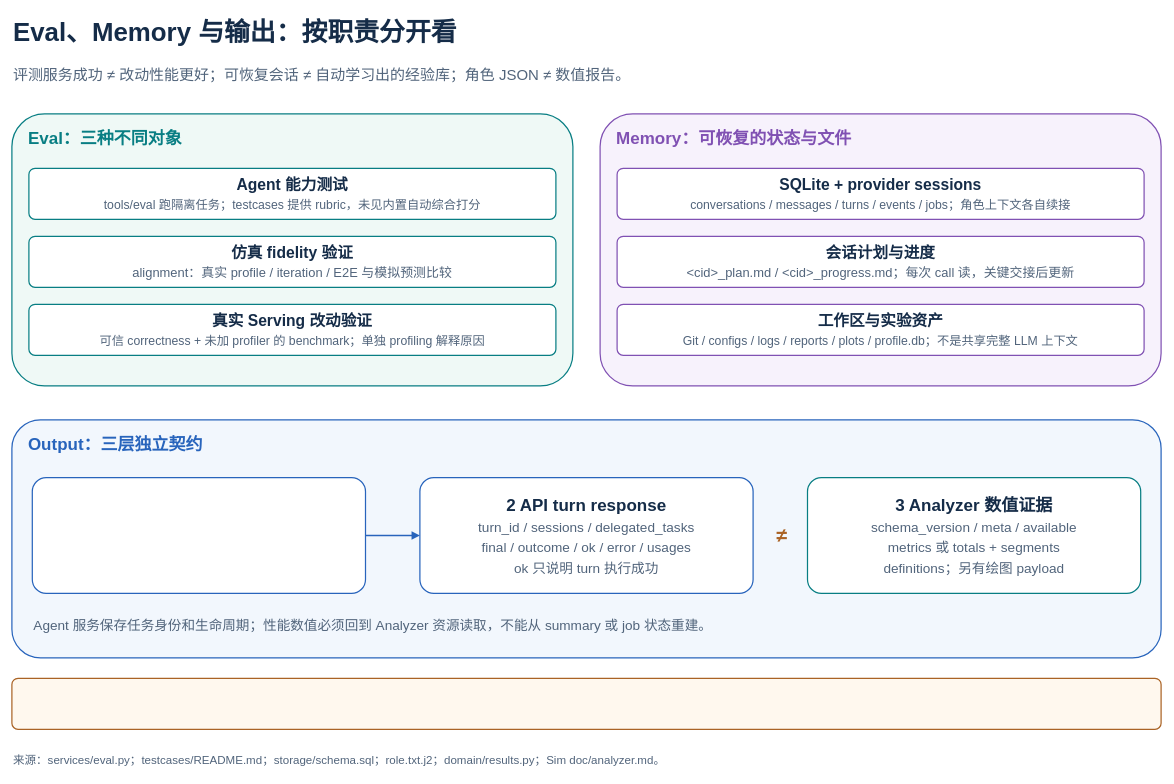
Some shapes in this 1174 by 784 pixel diagram are drawn without their labels. Each missing label, with the centre of its shape:
"1 Role envelope action + message [+ task] 控制委派 / 回交 / 结束 message 内部仍是自由文本" goes at pixel 198 535.
"公开实现边界 eval 实际保留独立 workspace；未发现独立向量检索记忆模块，也未发现自动演化优化器的 RSI 闭环。" goes at pixel 586 703.
